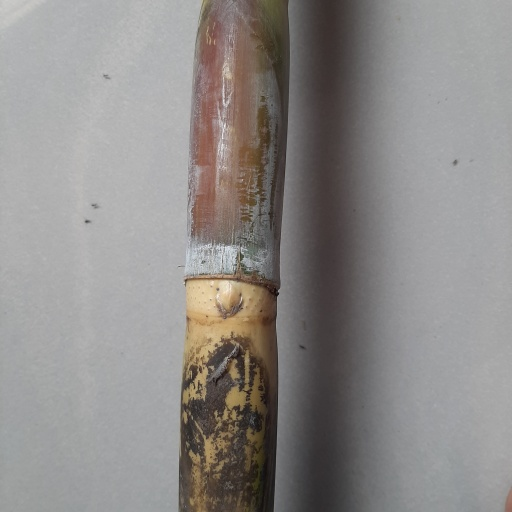Bud: (215, 280, 243, 318)
